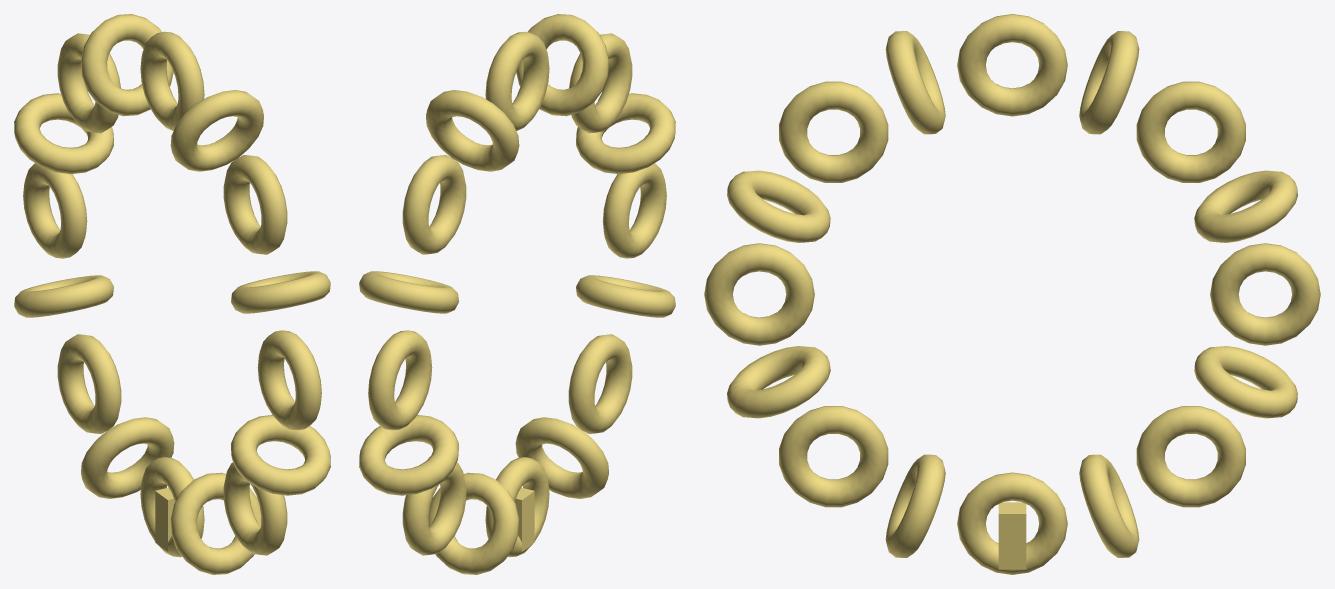
3 renders of one model, left to right at view 1: azimuth 30°, elevation 25°; view 2: azimuth 150°, elevation 25°; view 3: azimuth 270°, elevation 25°, orthographic. The views are drawn at different scales.
Parts seen in each view (by area): view 1: part (×17); view 2: part (×17); view 3: part (×17).
Boxes of the visible parts, x1,y1,x2,y2 form: part (×17): [14, 14, 330, 574]; part (×17): [359, 14, 675, 574]; part (×17): [704, 14, 1320, 574].
Bounding box in the file's own units: 0.081 × 0.451 × 0.451.
